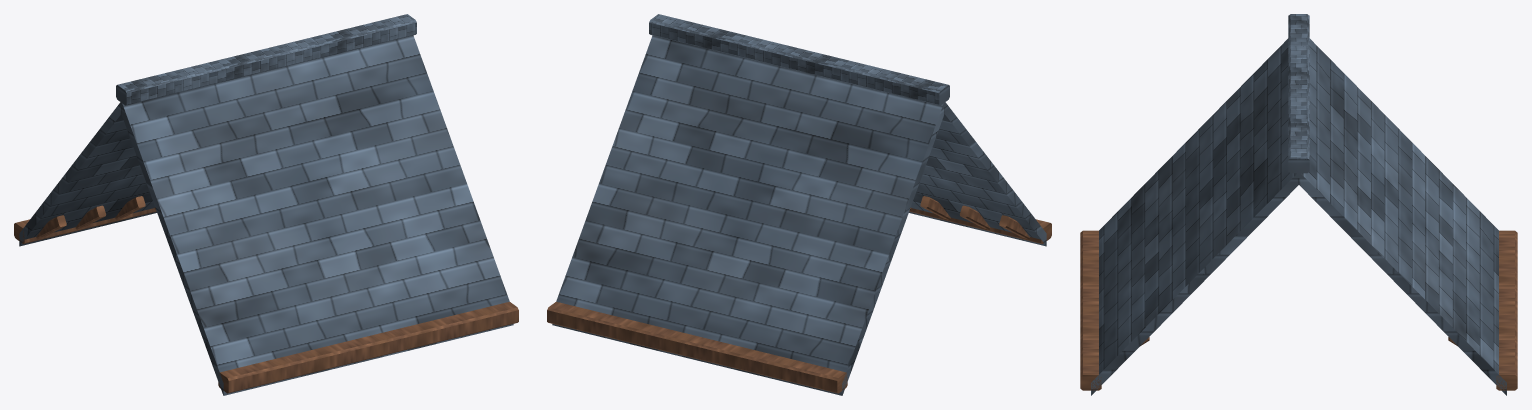
The model's file is roof_narrow.glb.
3 renders of one model, left to right at view 1: azimuth 30°, elevation 25°; view 2: azimuth 150°, elevation 25°; view 3: azimuth 270°, elevation 25°, orthographic.
Parts seen in each view (by area): view 1: Roof Narrow; view 2: Roof Narrow; view 3: Roof Narrow.
Part boxes in pixels (x1,y1,x2,y2): Roof Narrow: [14, 14, 518, 395]; Roof Narrow: [547, 14, 1051, 395]; Roof Narrow: [1080, 14, 1517, 395].
Bounding box in the file's own units: 3.2 × 2.46 × 4.1.
2 materials, 2 textured.
